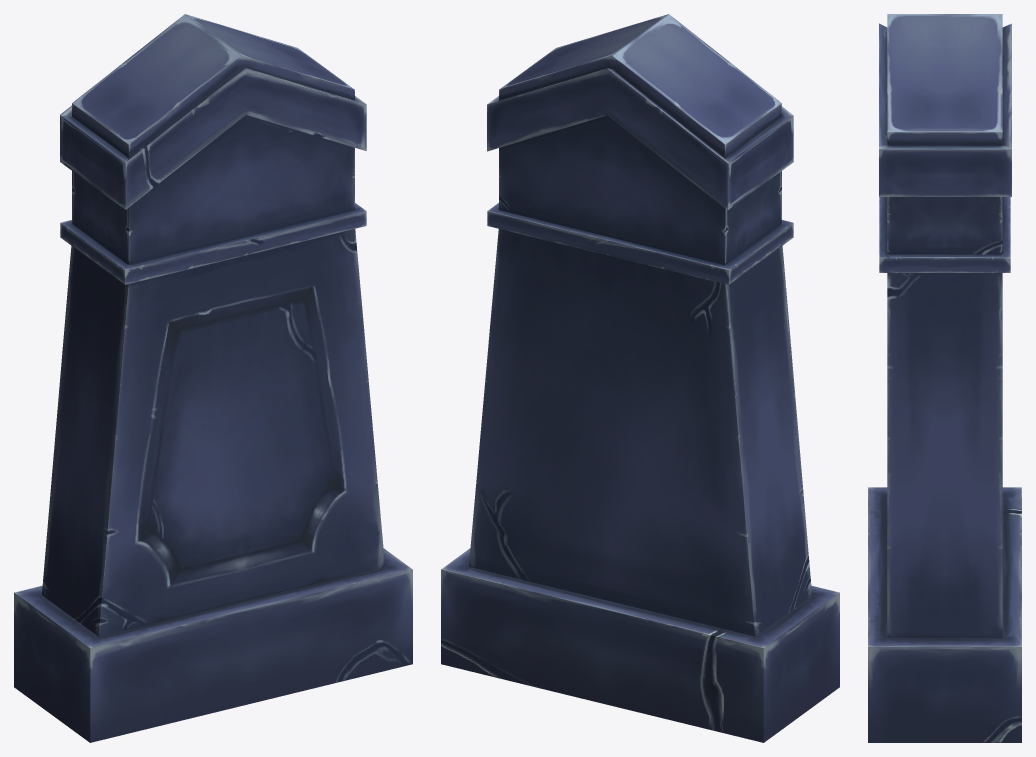
File: gravestone_3.fbx
3 views of the same model, side by side, from view 1: azimuth 30°, elevation 25°; view 2: azimuth 150°, elevation 25°; view 3: azimuth 270°, elevation 25° (orthographic).
Visible parts, largest first — view 1: Cube.002; view 2: Cube.002; view 3: Cube.002.
Part boxes in pixels (x1,y1,x2,y2): Cube.002: (14, 14, 412, 742); Cube.002: (441, 14, 839, 742); Cube.002: (868, 14, 1021, 742).
Size of the model in its own units: 236 by 447 by 96.13.
